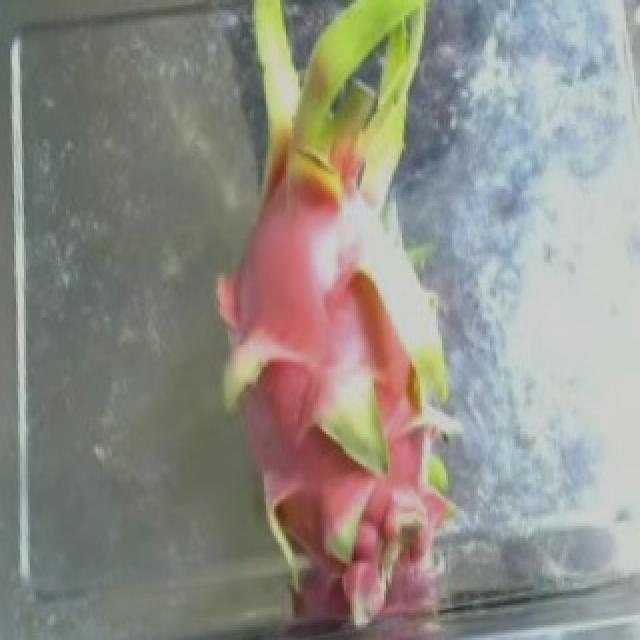fruit: (166, 201, 552, 635), (156, 0, 510, 389)
